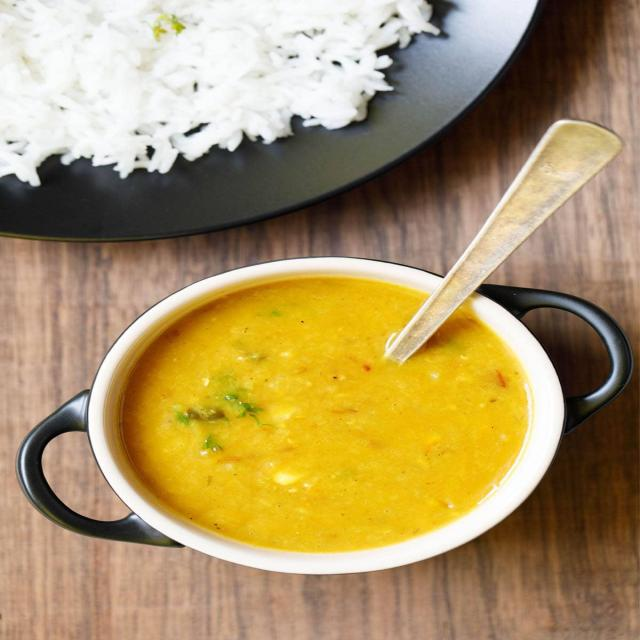dal: (125, 283, 524, 552)
rice: (0, 0, 452, 187)
